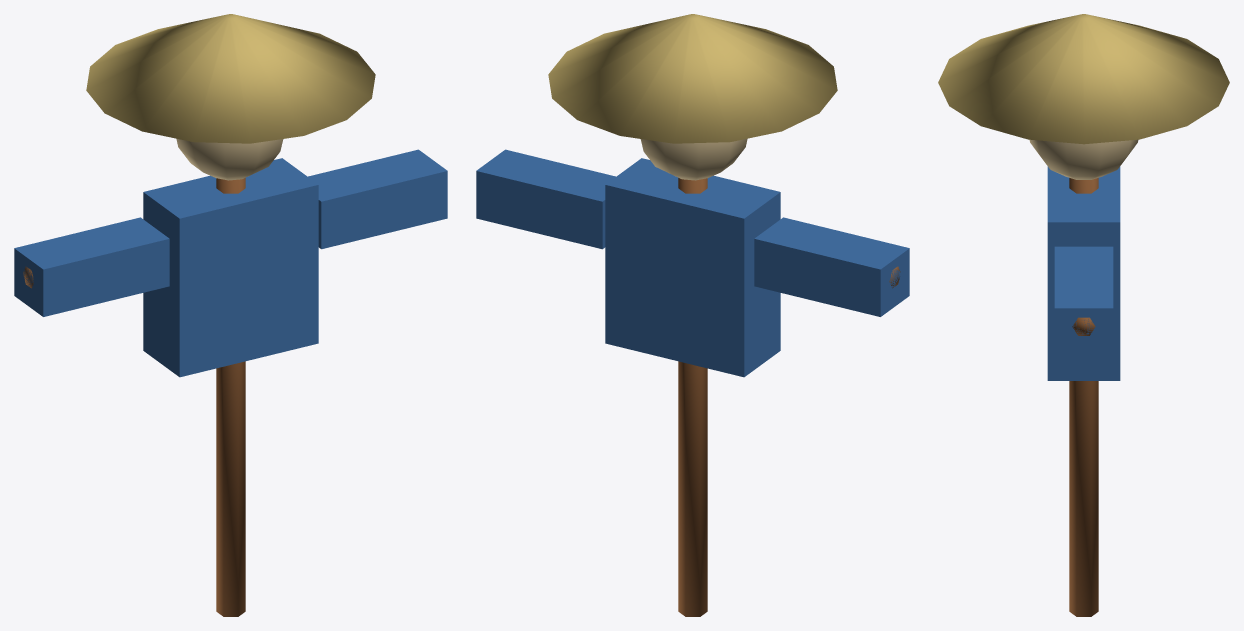
Rendered from prop_orang_sawah.glb.
3 views of the same model, side by side, from view 1: azimuth 30°, elevation 25°; view 2: azimuth 150°, elevation 25°; view 3: azimuth 270°, elevation 25° (orthographic).
Parts seen in each view (by area): view 1: orang_sawah; view 2: orang_sawah; view 3: orang_sawah.
Part boxes in pixels (<box>): orang_sawah: <box>14,14,447,616</box>; orang_sawah: <box>476,14,909,616</box>; orang_sawah: <box>938,14,1229,616</box>.
Size of the model in its own units: 1.6 by 2.25 by 1.
